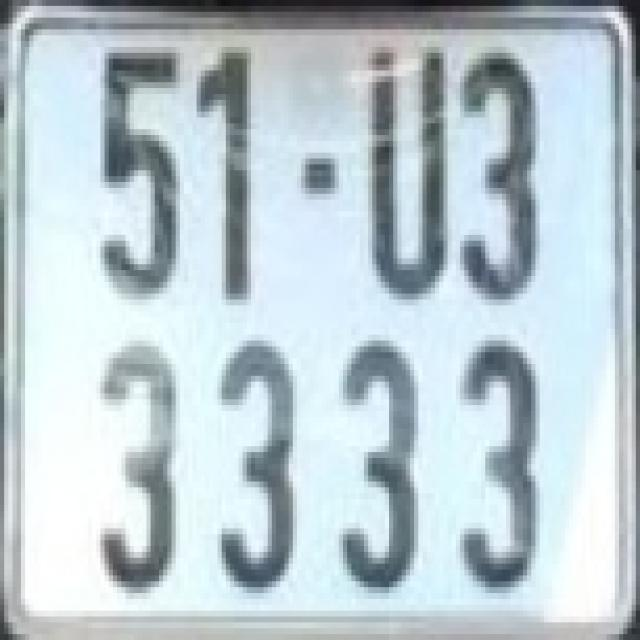1: (197, 41, 259, 300)
3: (96, 341, 180, 593), (339, 341, 422, 593), (460, 341, 544, 587), (460, 47, 540, 299), (218, 341, 297, 587)
5: (96, 47, 184, 299)
U: (364, 36, 452, 300)
